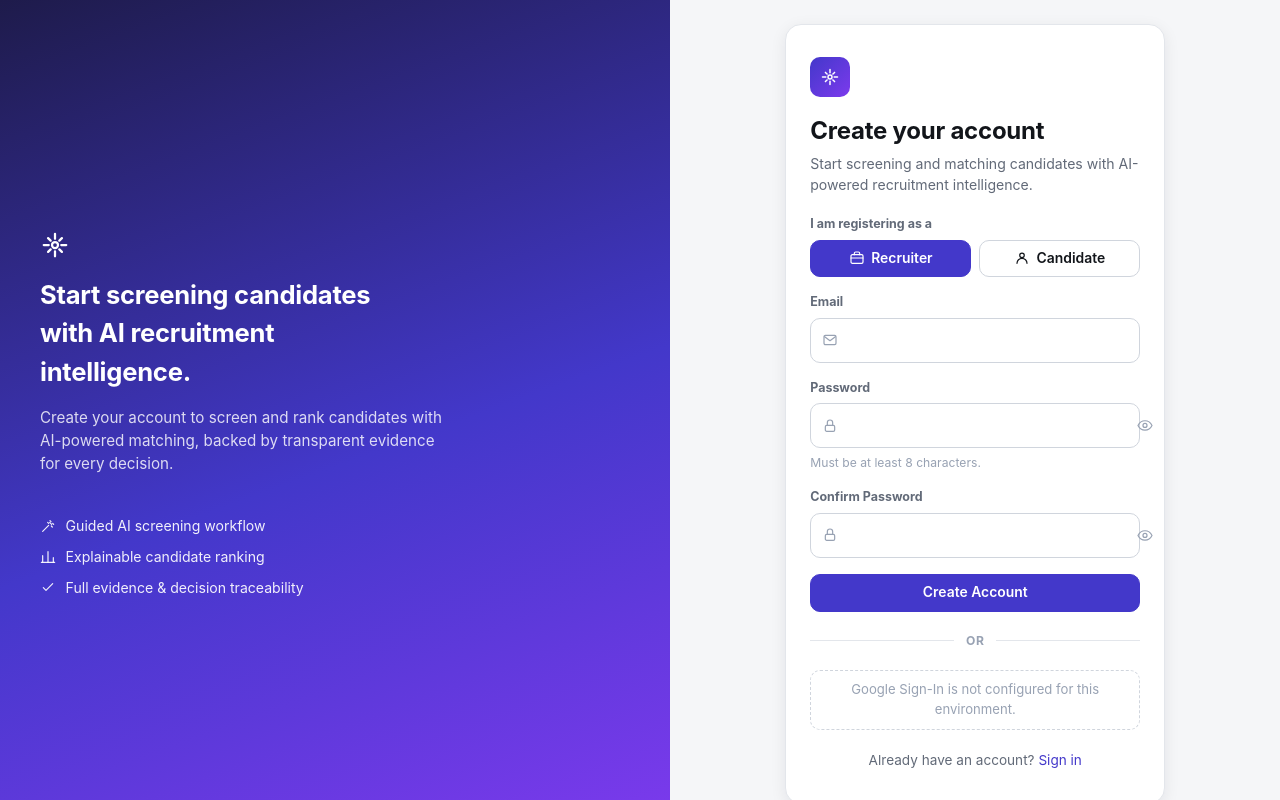
Test case: RegisterPage › shows a clean error message when the email is already registered
Step 1. Type "new-user@example.com" into the field labelled "Email" → (975, 340), box x1=810 y1=318 x2=1140 y2=363
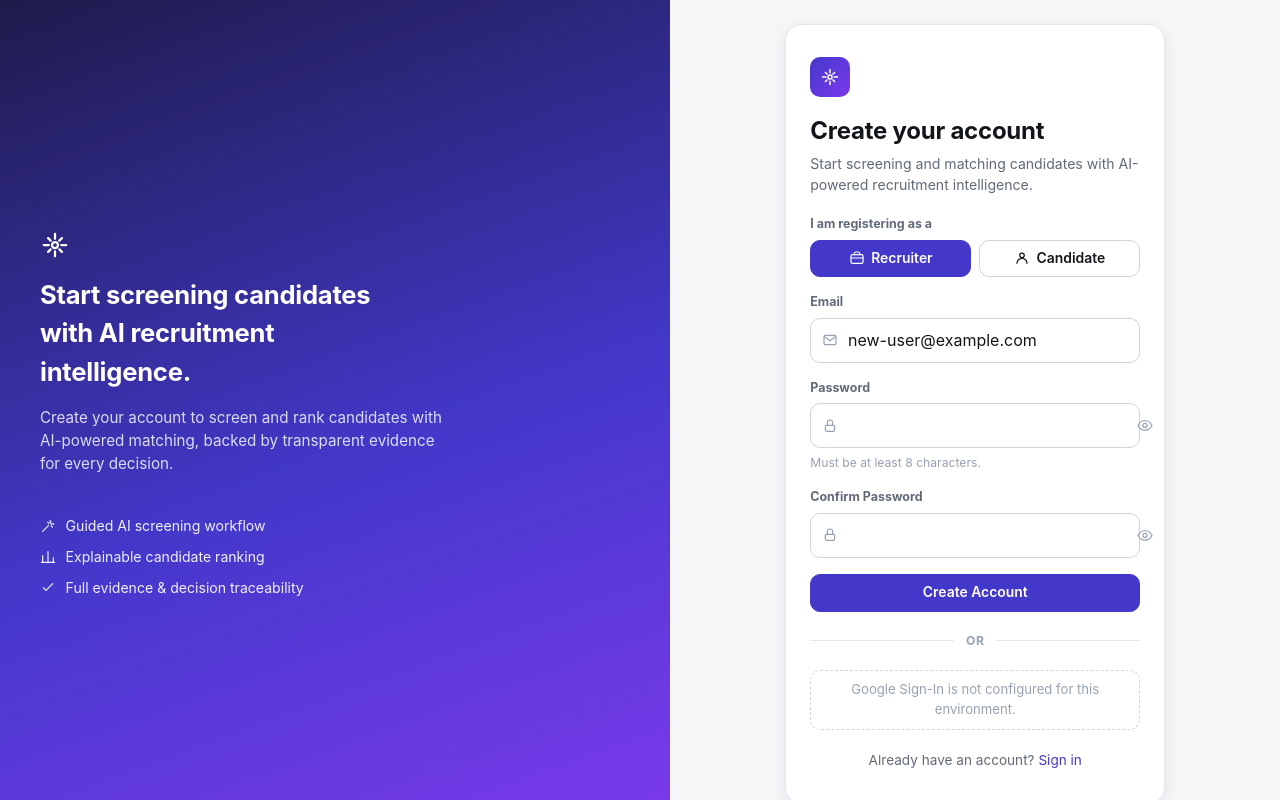
Step 2. Type "StrongPassword123!" into the password field labelled "Password" → (975, 426), box x1=810 y1=403 x2=1140 y2=448
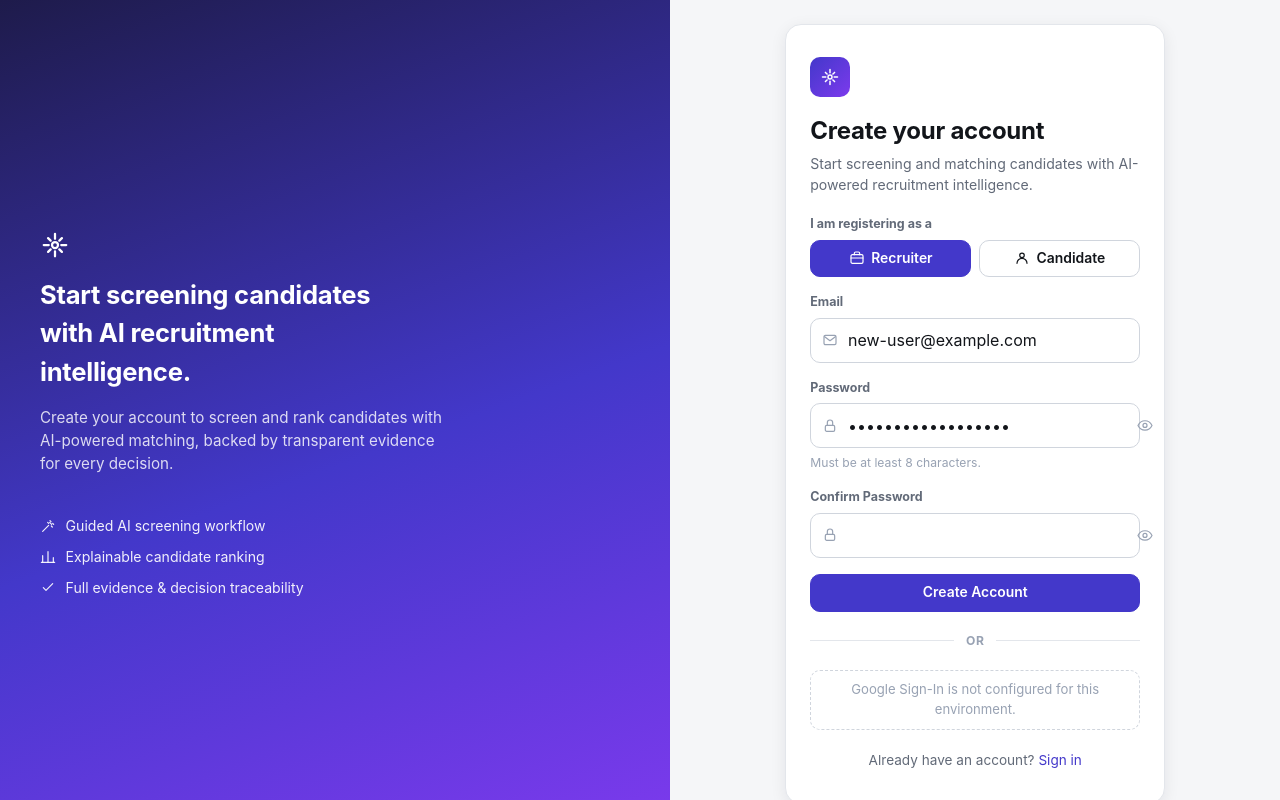
Step 3. Type "StrongPassword123!" into the password field labelled "Confirm Password" → (975, 535), box x1=810 y1=513 x2=1140 y2=558
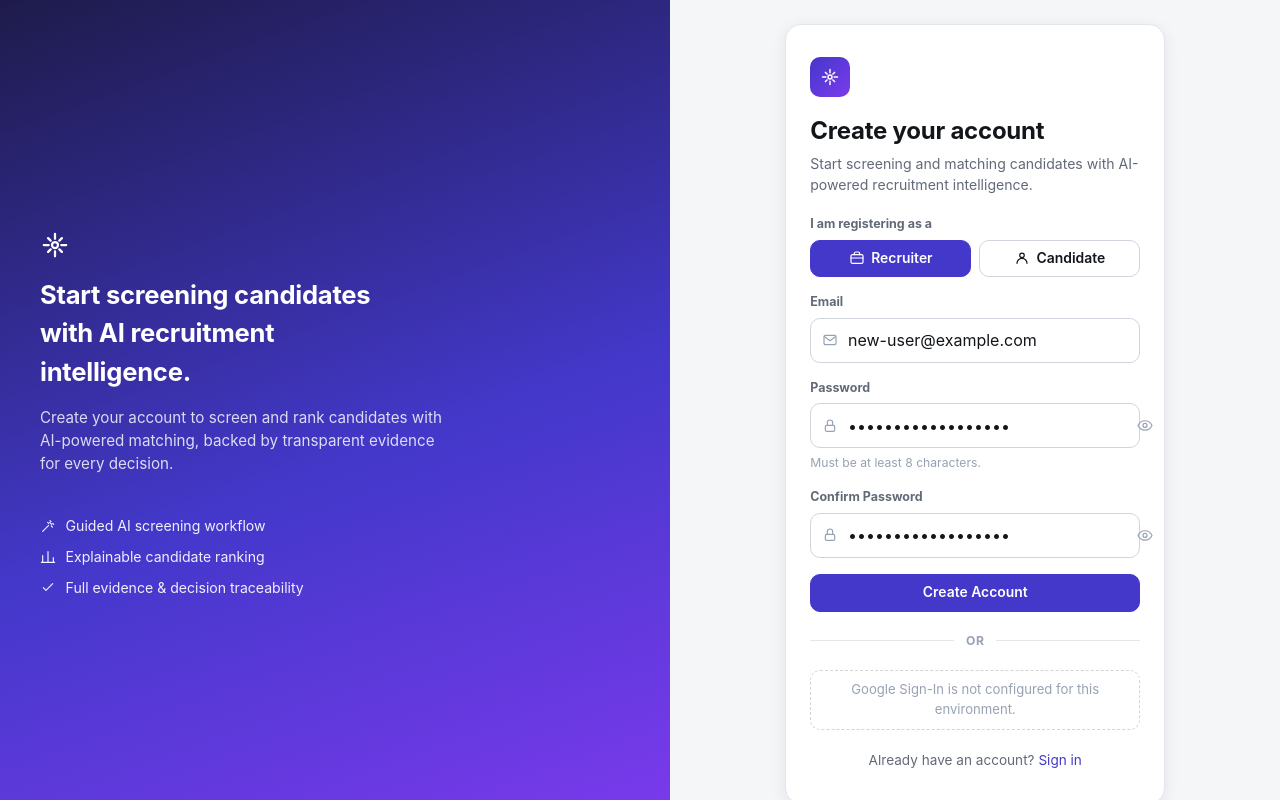
Step 4. Click the button "Create Account" → (975, 593), box x1=810 y1=574 x2=1140 y2=612
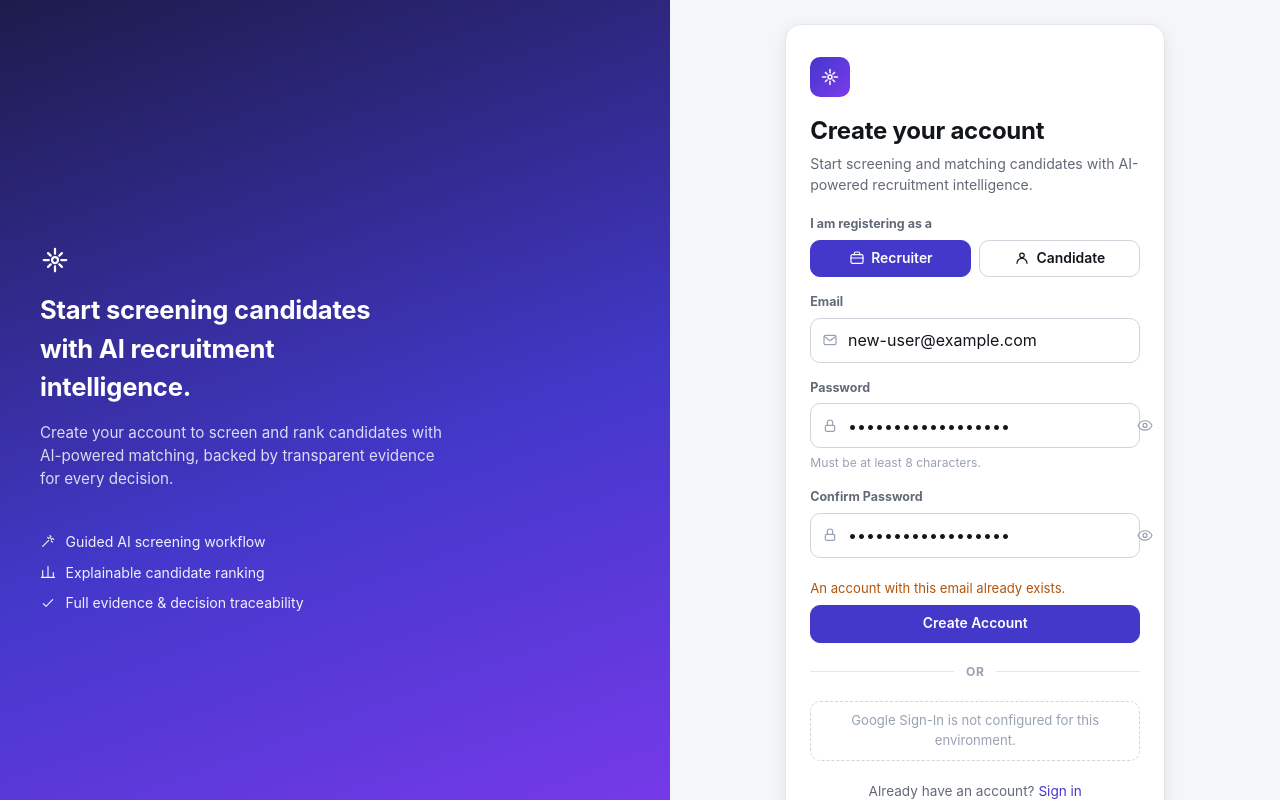
Result: the text "An account with this email already exists." is shown at x1=810 y1=579 x2=1065 y2=599
